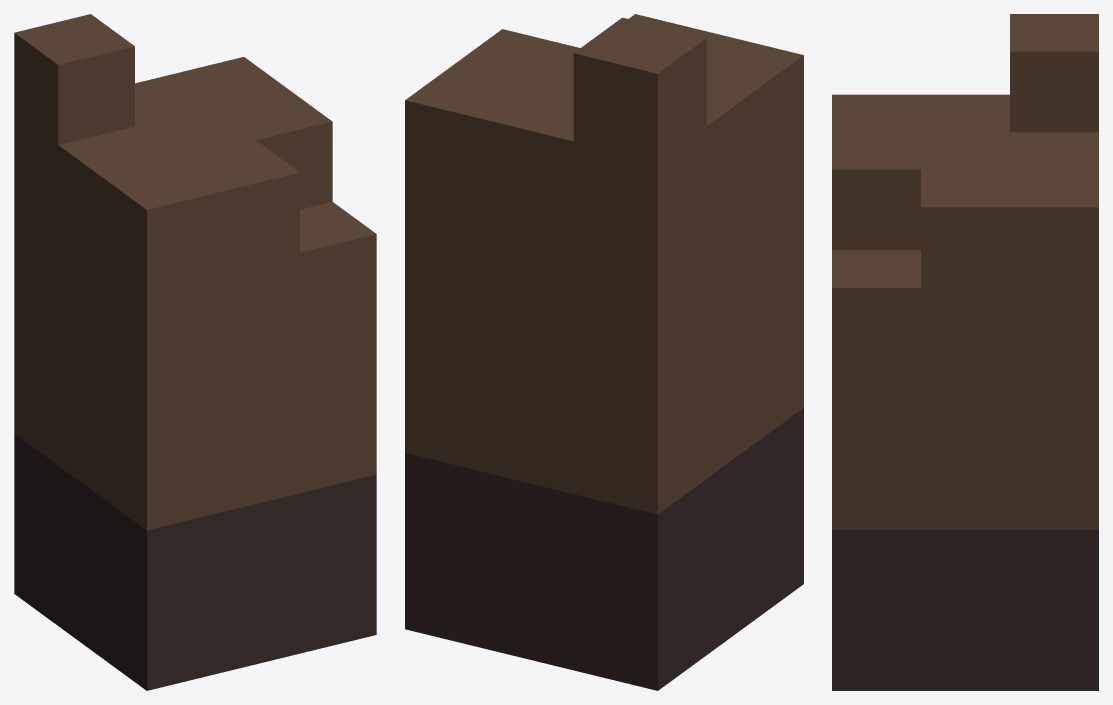
Rendered from boar__leg_br.glb.
3 views of the same model, side by side, from view 1: azimuth 30°, elevation 25°; view 2: azimuth 150°, elevation 25°; view 3: azimuth 270°, elevation 25° (orthographic). The views are drawn at different scales.
Parts seen in each view (by area): view 1: boar__leg_br; view 2: boar__leg_br; view 3: boar__leg_br.
Part boxes in pixels (x1,y1,x2,y2): boar__leg_br: [14, 14, 376, 690]; boar__leg_br: [405, 14, 803, 690]; boar__leg_br: [832, 14, 1098, 690].
Bounding box in the file's own units: 0.3 × 0.7 × 0.3.
Materials: 1 (1 with a texture image).
